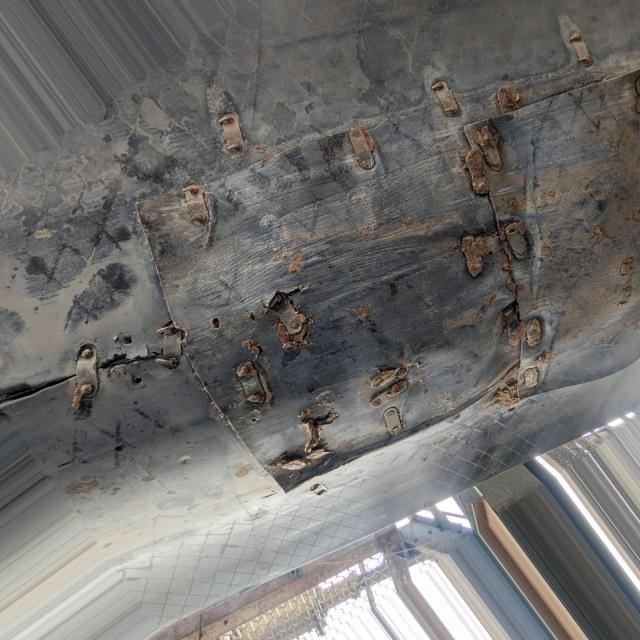patch work: (35, 7, 640, 514)
